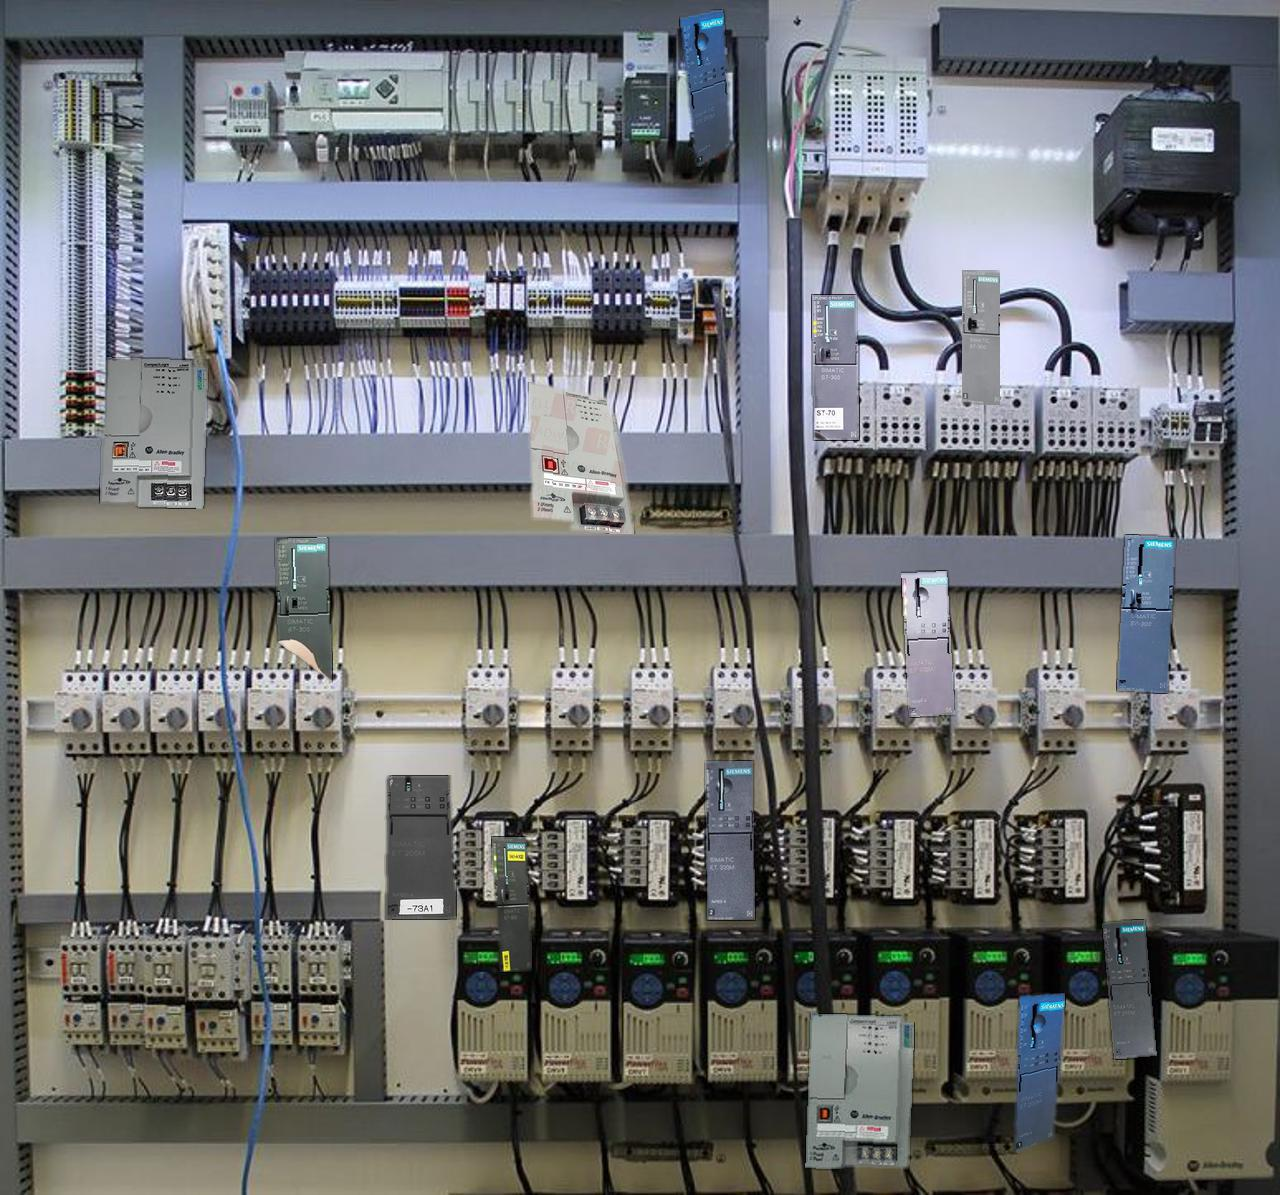AllenBradley: (805, 1013, 913, 1168), (529, 382, 633, 533), (100, 358, 205, 508)
Siemens: (1117, 535, 1174, 692), (276, 537, 331, 679), (812, 295, 858, 439), (492, 837, 531, 971), (962, 270, 999, 404)
